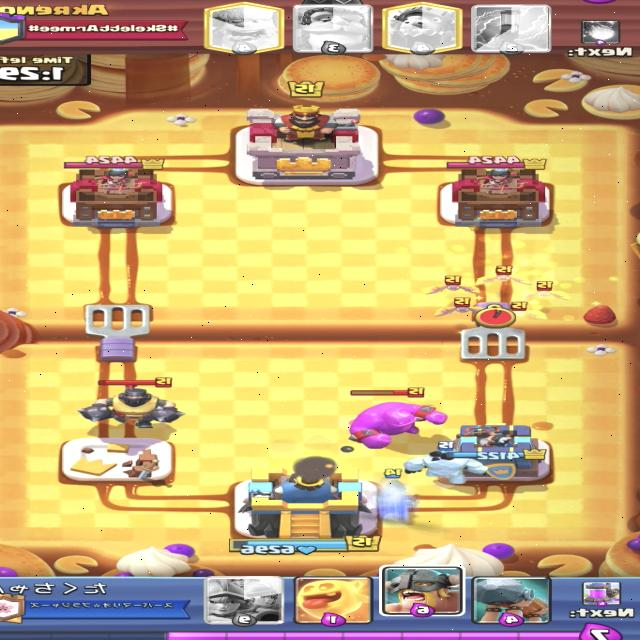Enemy-Bat: (473, 265, 534, 287), (517, 280, 573, 301), (429, 274, 482, 296), (433, 297, 484, 319), (490, 301, 549, 319)
Enemy-ElixirGolem: (346, 387, 449, 449)
Enemy-MegaKnight: (76, 376, 185, 431)
Player-Bandit: (367, 467, 418, 517)
Player-IceGolem: (397, 441, 488, 486)
